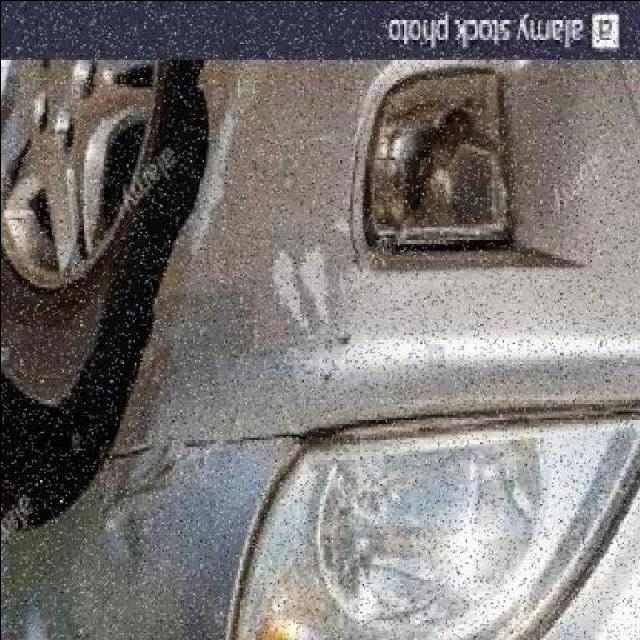fender-dent: (2, 266, 286, 640)
front-bumper-dent: (95, 50, 639, 434)
